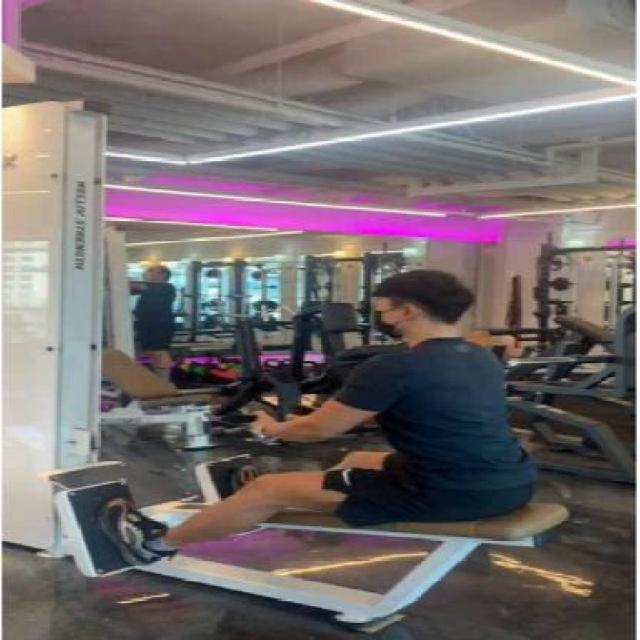Seated Cable Rows: (0, 231, 608, 640)
